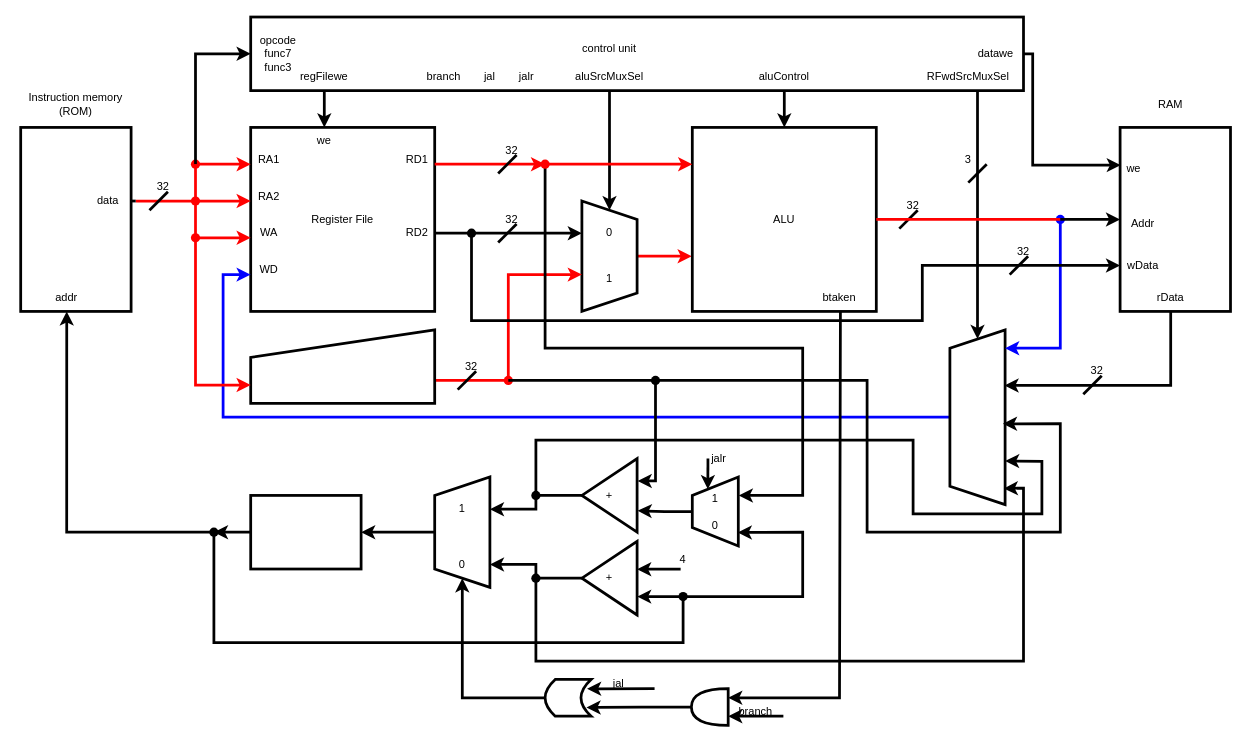
The diagram is 1248 pixels wide and 742 high, and some of its shapes have lost their labels. The shapes that lost their labels are listed below. From the top down, each one's centre as x and y in pixels, then its label:
At point 342,366: "imm Extend".
At point 977,417: "5X1 MUX".
At point 305,532: "Program Counter".
